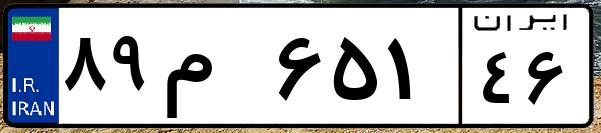1: (385, 28, 445, 110)
4: (475, 38, 525, 113)
5: (330, 28, 385, 110)
6: (270, 28, 330, 110), (525, 38, 570, 115)
8: (57, 26, 110, 100)
9: (110, 28, 158, 98)
م: (158, 20, 270, 120)
